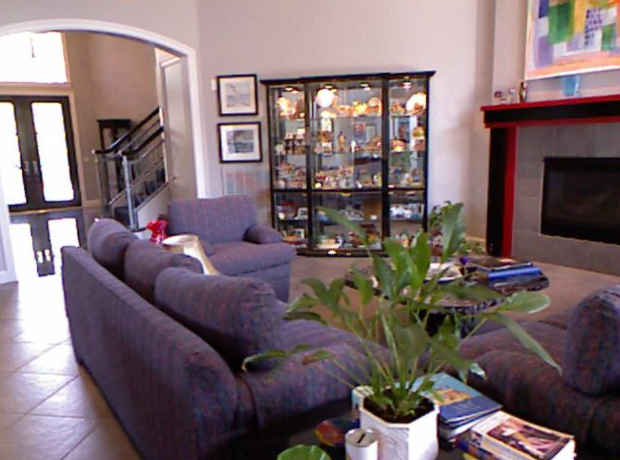couch: (75, 219, 313, 458), (518, 290, 620, 422), (221, 194, 288, 272)
door: (35, 96, 67, 200), (0, 98, 28, 202)
table: (347, 256, 550, 302)
window: (0, 33, 65, 82)
